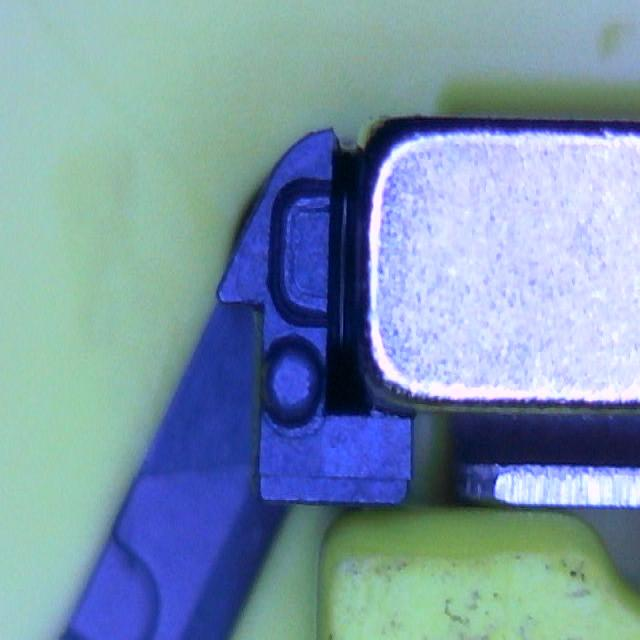lacking: (268, 174, 340, 330)
